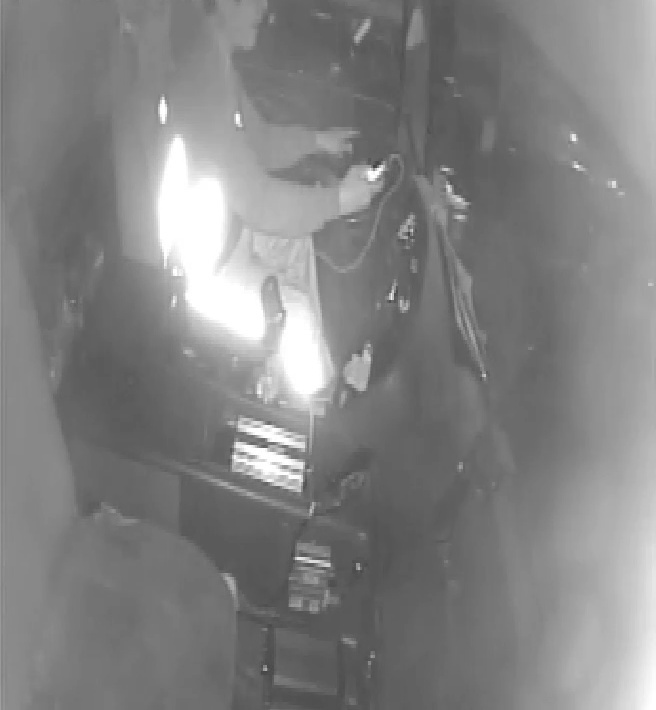cellphone: (351, 156, 391, 192)
